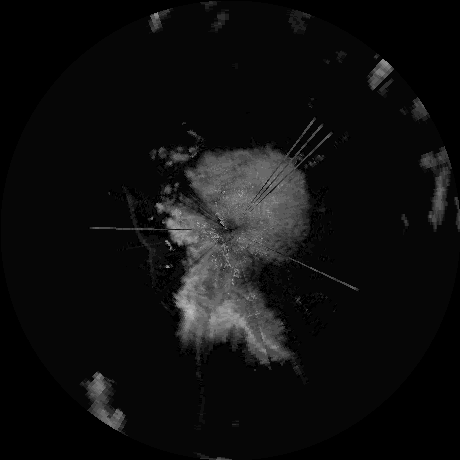frontgust: (127, 196, 157, 272)
